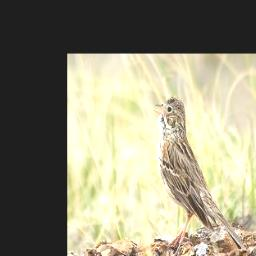Sparrow: (149, 90, 250, 256)
